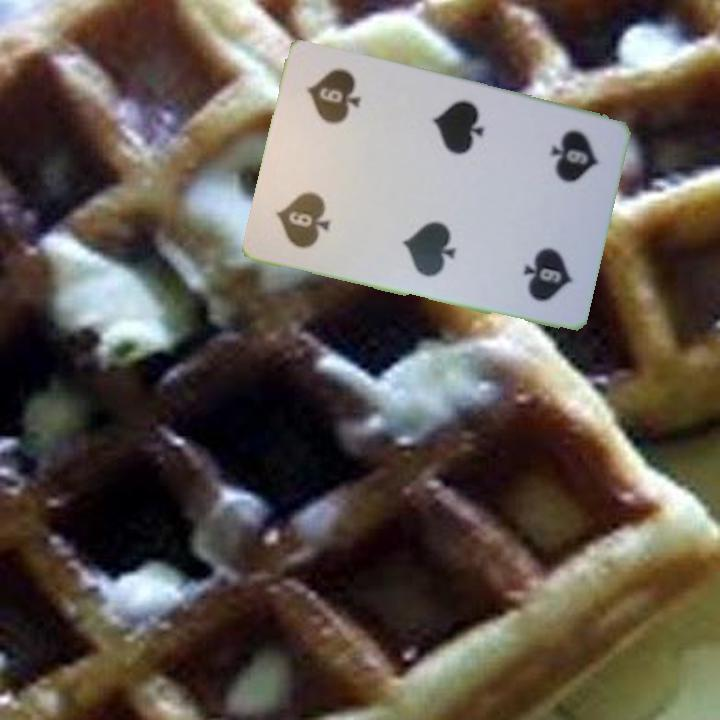s_6.png: (258, 148, 364, 264), (509, 110, 615, 225)
